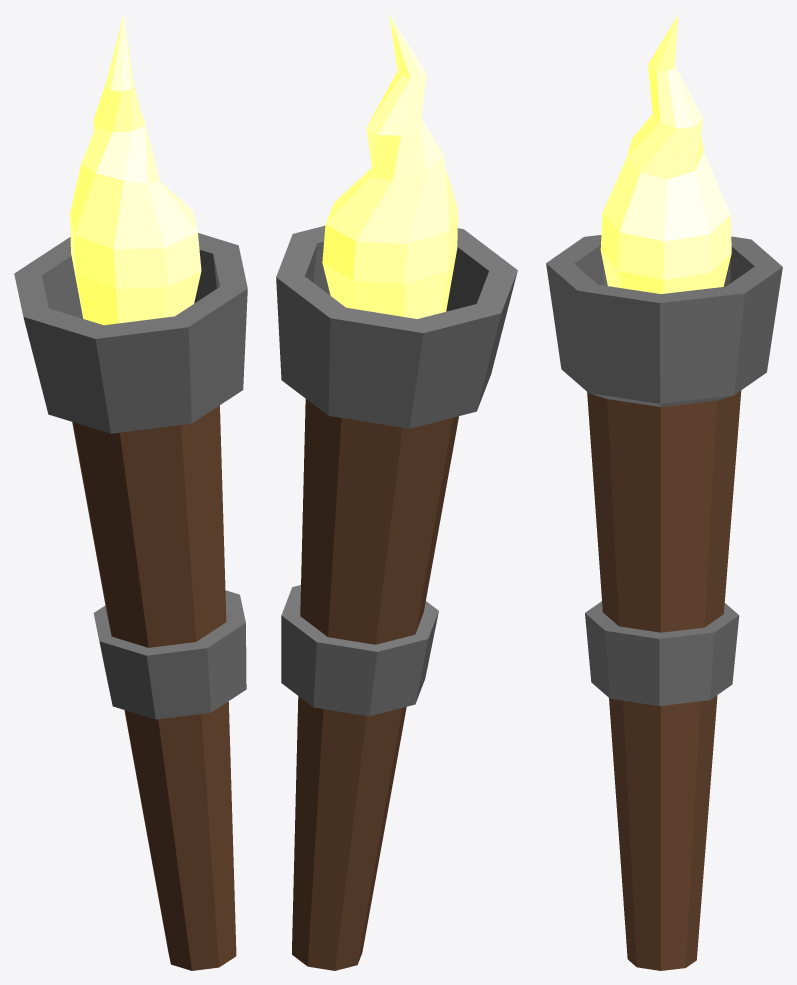
File: torch.glb
3 views of the same model, side by side, from view 1: azimuth 30°, elevation 25°; view 2: azimuth 150°, elevation 25°; view 3: azimuth 270°, elevation 25° (orthographic). The views are drawn at different scales.
Visible parts, largest first — view 1: torcia.004; view 2: torcia.004; view 3: torcia.004.
Boxes of the visible parts, left/top/right/bottom form: torcia.004: left=14, top=15, right=247, bottom=970; torcia.004: left=276, top=14, right=517, bottom=970; torcia.004: left=546, top=14, right=782, bottom=970.
Bounding box in the file's own units: 0.2532 × 1.09 × 0.2544.
